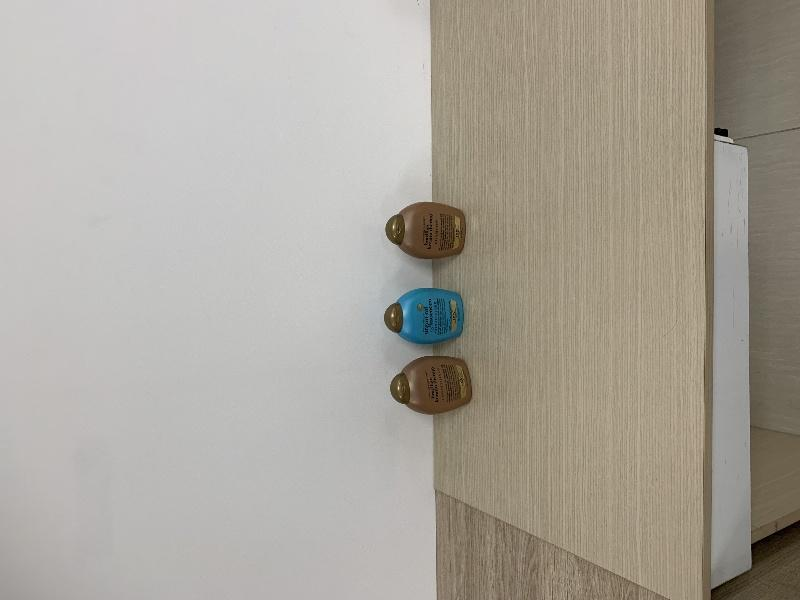ArganOilOfMorocco_Conditioner: (384, 287, 463, 344)
BrazilianKeratinTherapy_Shampoo: (387, 201, 465, 259)
BrazilianKerationTherapy_Conditioner: (390, 356, 472, 414)
